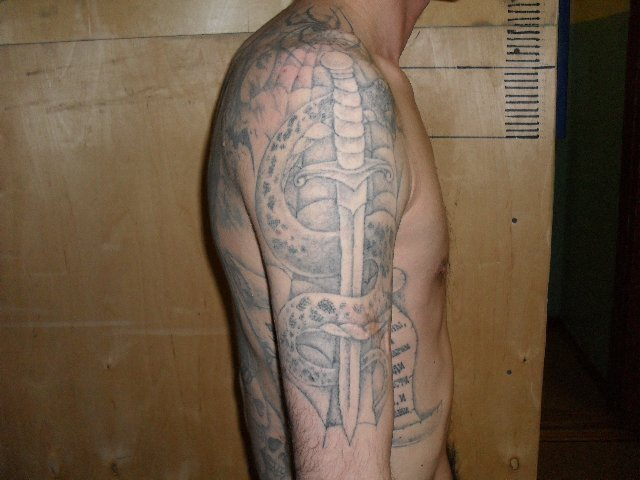tatu7_zmeya: (249, 69, 434, 434)
